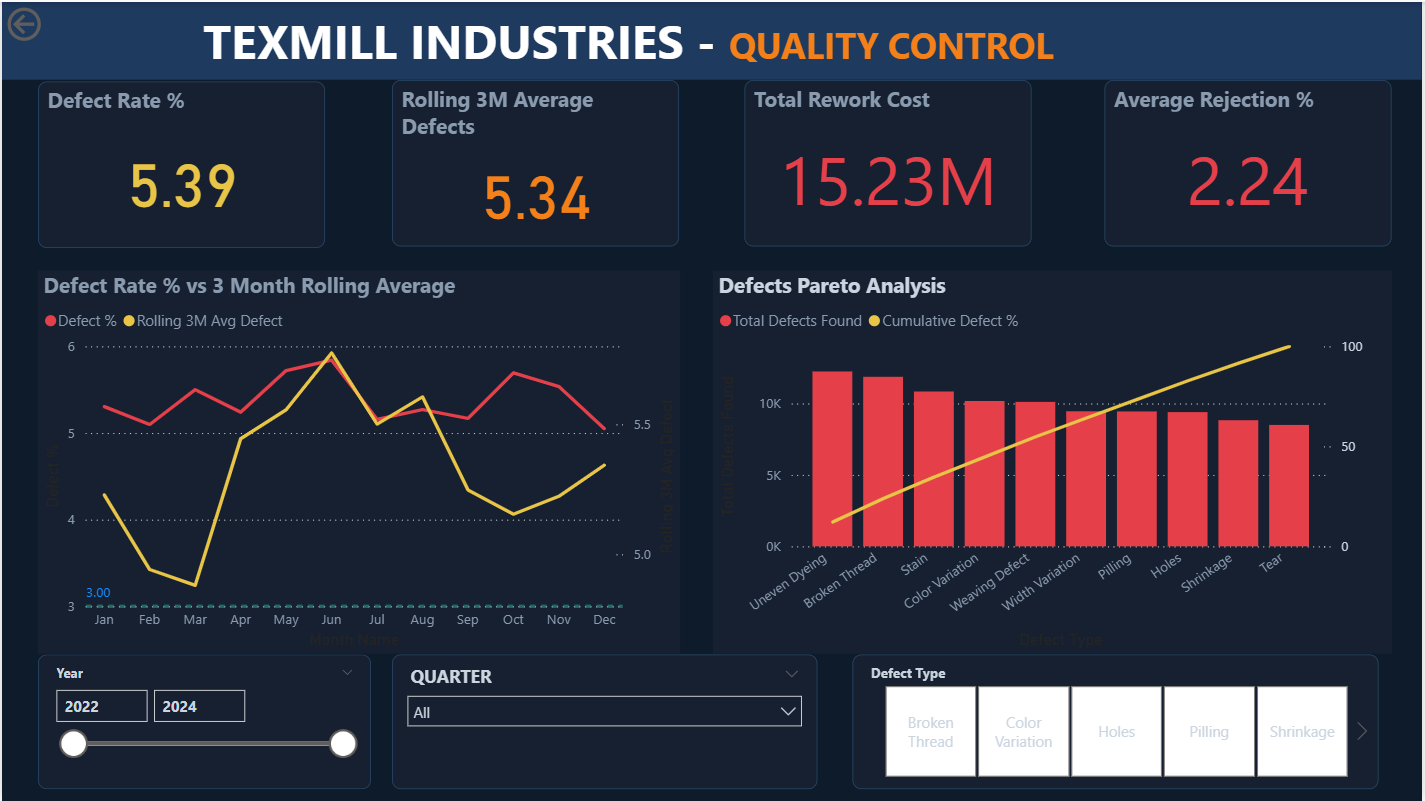

Layout of this report page (visuals, bound fields, positions):
{"tool":"powerbi","page":{"name":"Quality Control","canvas":[1280,720],"ordinal":2},"visuals":[{"type":"textbox","box":[0,0,1279.5,69.7],"z":0},{"type":"card","title":"Defect Rate %","fields":{"Values":["Quality_Data.Avg Rejection %"]},"box":[31.8,71.2,258.9,149.9],"z":1000},{"type":"card","title":"Rolling 3M Average Defects","fields":{"Values":["_Measure.Rolling 3M Avg Defect"]},"box":[351.3,69.7,258.9,149.9],"z":2000},{"type":"card","title":"Total Rework Cost","fields":{"Values":["Sum(Quality_Data.Rework Cost INR)"]},"box":[669.3,69.7,258.9,149.9],"z":3000},{"type":"card","title":"Average Rejection %","fields":{"Values":["Quality_Data.Avg Rejection %"]},"box":[993.3,69.7,258.9,149.9],"z":4000},{"type":"actionButton","box":[0,0,100,40],"z":5000},{"type":"lineChart","title":"Defect Rate % vs 3 Month Rolling Average","fields":{"Category":["data Table.Month Name"],"Y":["Quality_Data.Defect %"],"Y2":["_Measure.Rolling 3M Avg Defect"]},"box":[31.8,242.3,578.4,345.2],"z":6000},{"type":"lineClusteredColumnComboChart","title":"Defects Pareto Analysis","fields":{"Category":["Quality_Data.Defect Type"],"Y":["Quality_Data.Total Defects Found"],"Y2":["Quality_Data.Cumulative Defect %"]},"box":[640.5,242.3,611.7,345.2],"z":7000},{"type":"slicer","fields":{"Values":["data Table.Year"]},"box":[31.8,587.5,299.8,121.1],"z":8000},{"type":"slicer","fields":{"Values":["data Table.QUARTER"]},"box":[351.3,587.5,383.1,121.1],"z":9000},{"type":"slicer","fields":{"Values":["Quality_Data.Defect Type"]},"box":[766.2,587.5,473.9,121.1],"z":10000}]}

Visuals, with their boxes in screenshot pixels (x1, y1, x2, y2), scaled from the page's 1280x720 canvas onto the 1425x801 screenshot:
textbox: 0/0/1424/78
"Defect Rate %" card: 35/79/324/246
"Rolling 3M Average Defects" card: 391/78/679/244
"Total Rework Cost" card: 745/78/1033/244
"Average Rejection %" card: 1106/78/1394/244
actionButton: 0/0/111/44
"Defect Rate % vs 3 Month Rolling Average" lineChart: 35/270/679/654
"Defects Pareto Analysis" lineClusteredColumnComboChart: 713/270/1394/654
slicer - data Table.Year: 35/654/369/788
slicer - data Table.QUARTER: 391/654/818/788
slicer - Quality_Data.Defect Type: 853/654/1381/788
